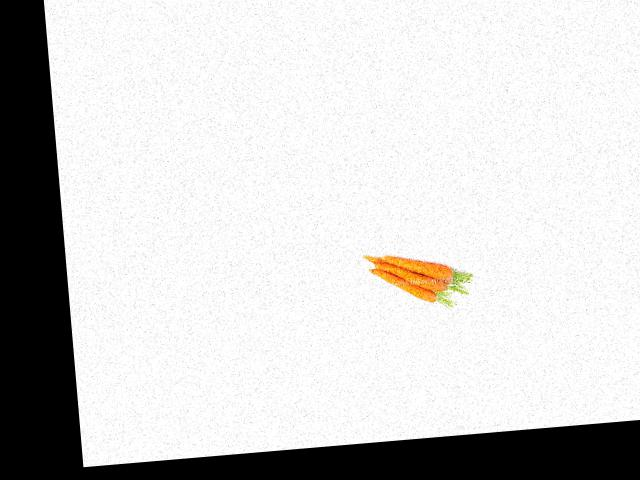carrot: (374, 243, 459, 291)
